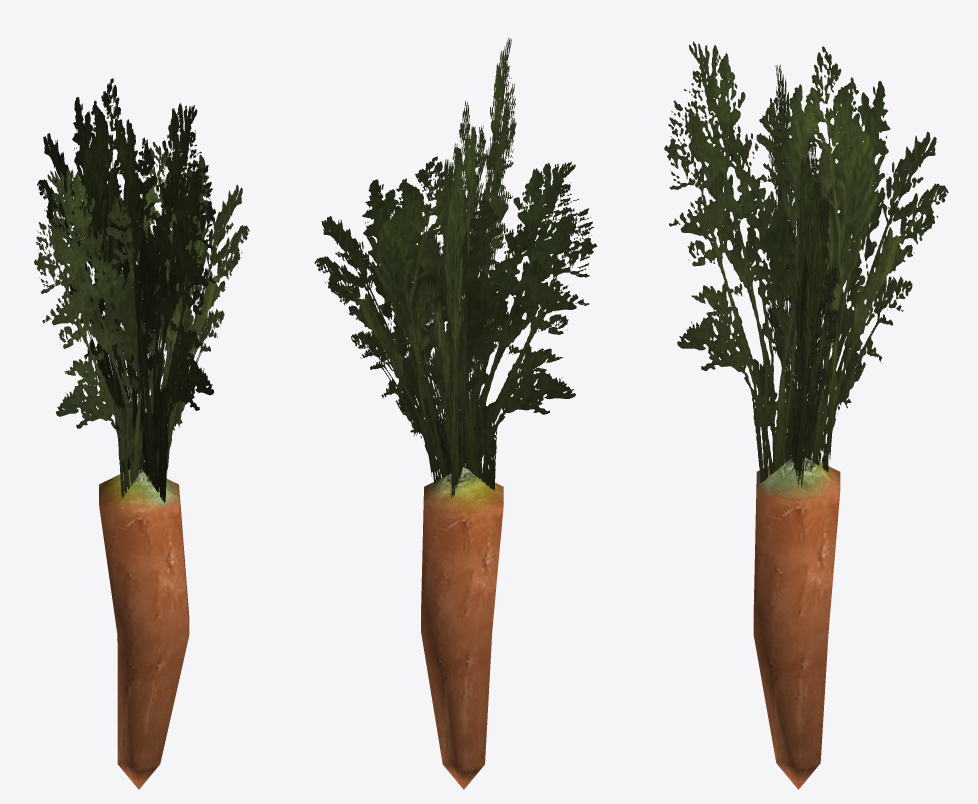
The model's file is GS_NATURE_CARROT_03_GALI.glb.
The picture shows the model from 3 angles, left to right: view 1: azimuth 30°, elevation 25°; view 2: azimuth 150°, elevation 25°; view 3: azimuth 270°, elevation 25°; orthographic projection. The views are drawn at different scales.
Visible parts, largest first — view 1: Mesh; view 2: Mesh; view 3: Mesh.
Part boxes in pixels (x1,y1,x2,y2): Mesh: (34, 78, 249, 789); Mesh: (314, 37, 596, 789); Mesh: (664, 41, 948, 789).
Bounding box in the file's own units: 0.348 × 0.8368 × 0.3168.
Materials: 2 (2 with a texture image).
